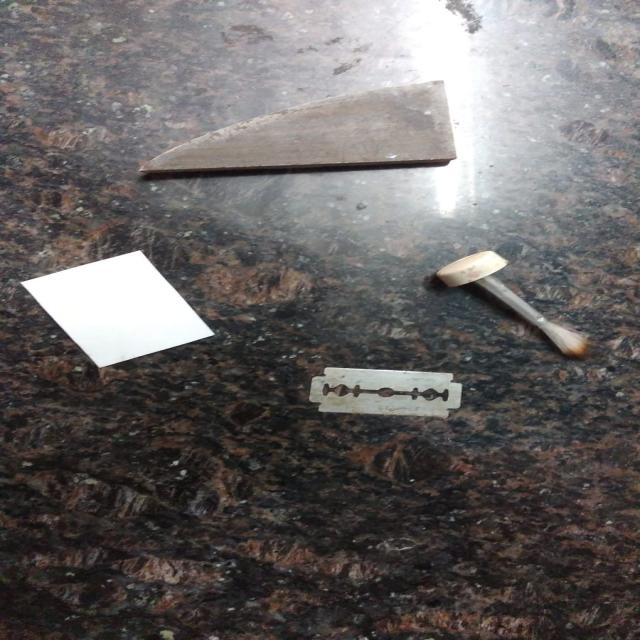metal: (106, 73, 513, 181), (419, 248, 612, 359), (279, 361, 496, 433)
paper: (14, 245, 237, 377)
